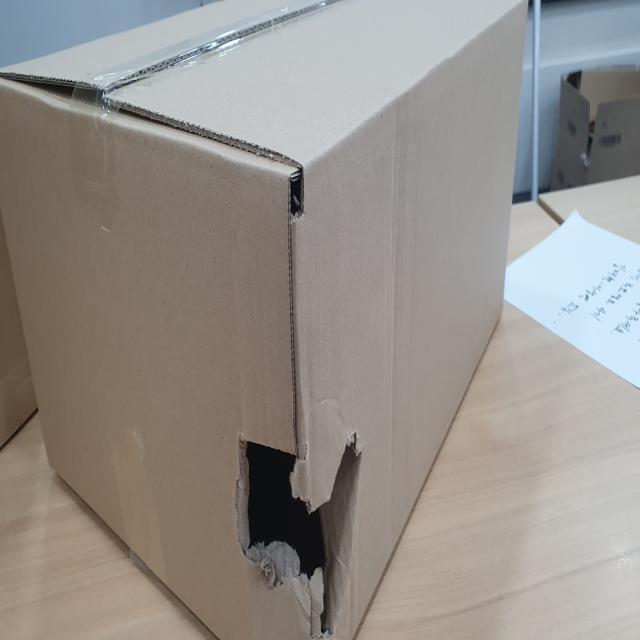hole: (226, 412, 369, 640)
